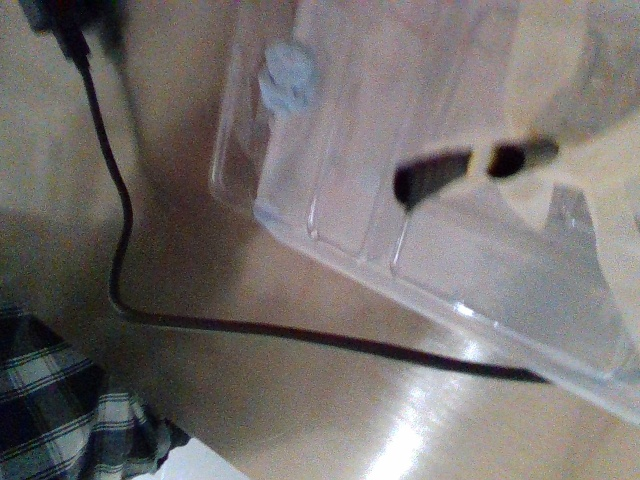test_strip: (393, 142, 498, 217)
